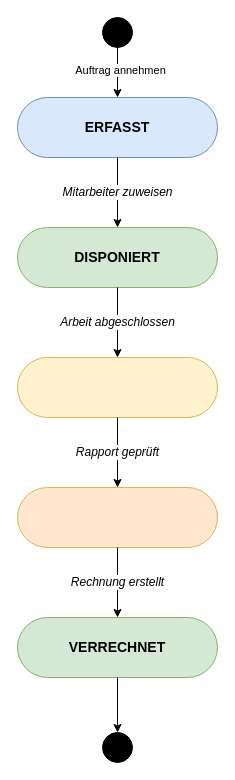
Some shapes in this 235 by 780 pixel diagram are drawn without their labels. The box of each missing label's shape, as (x1, y1, x2, y2) in pixels:
AUSGEFÜHRT: (16, 356, 218, 418)
FREIGEGEBEN: (16, 486, 218, 548)
